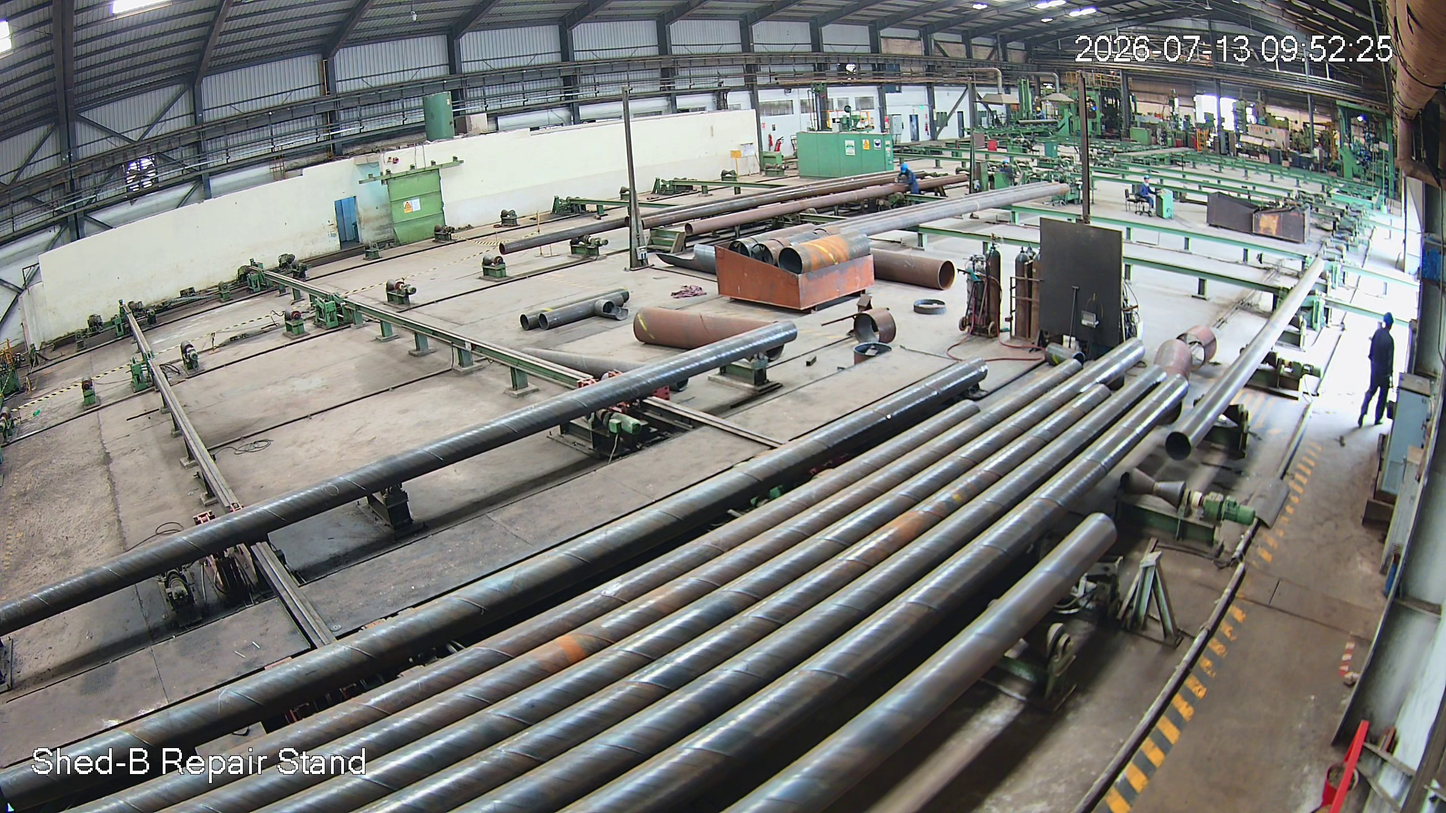Helmet: (1380, 307, 1406, 336)
Person: (1354, 312, 1400, 428)
